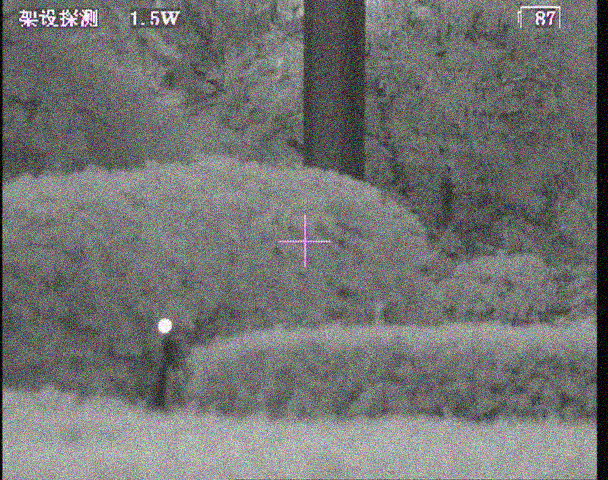my: (155, 318, 173, 334)
